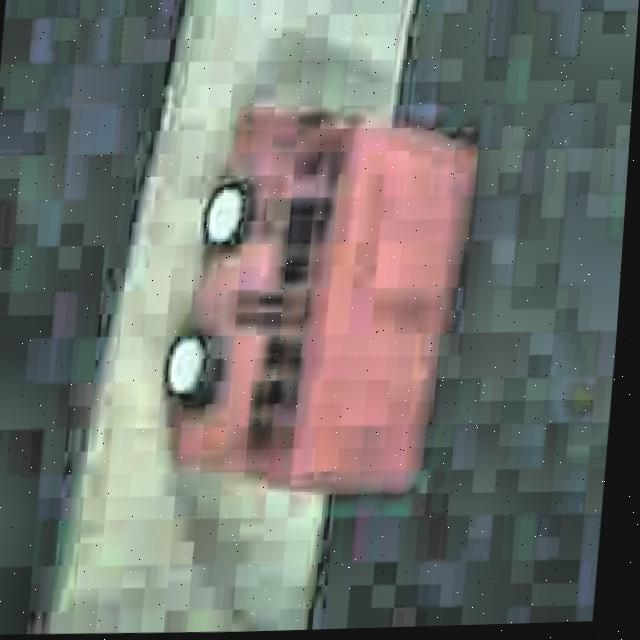bus: (146, 93, 488, 499)
